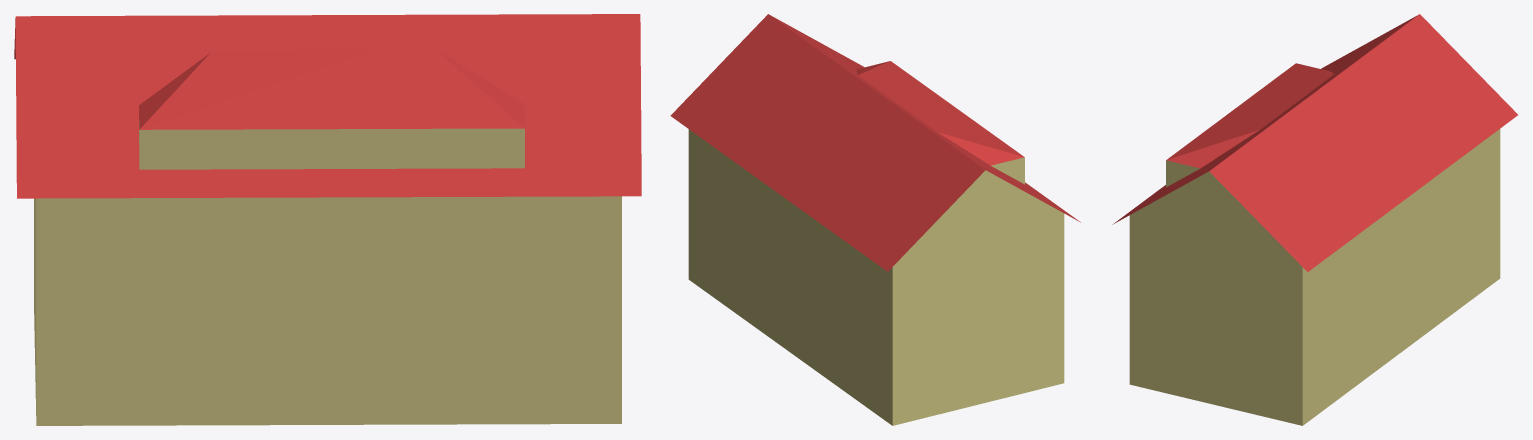
The picture shows the model from 3 angles, left to right: view 1: azimuth 30°, elevation 25°; view 2: azimuth 150°, elevation 25°; view 3: azimuth 270°, elevation 25°; orthographic projection. The views are drawn at different scales.
Parts seen in each view (by area): view 1: group_7, group_3, group_4, group_5, group_6; view 2: group_7, group_3, group_4, group_6, group_5; view 3: group_7, group_3, group_4, group_6, group_5.
Part boxes in pixels (bbox=[...]): group_7: bbox=[34, 196, 621, 425]; group_3: bbox=[14, 14, 641, 198]; group_4: bbox=[139, 48, 524, 129]; group_5: bbox=[139, 120, 524, 169]; group_6: bbox=[15, 16, 638, 198]; group_7: bbox=[688, 129, 1064, 425]; group_3: bbox=[670, 14, 1080, 271]; group_4: bbox=[856, 61, 1024, 165]; group_6: bbox=[671, 14, 1076, 270]; group_5: bbox=[991, 157, 1024, 184]; group_7: bbox=[1129, 129, 1500, 425]; group_3: bbox=[1112, 14, 1517, 271]; group_4: bbox=[1166, 63, 1333, 168]; group_6: bbox=[1122, 15, 1517, 269]; group_5: bbox=[1166, 160, 1199, 187].
Size of the model in its own units: 27.03 by 22.76 by 14.73.
